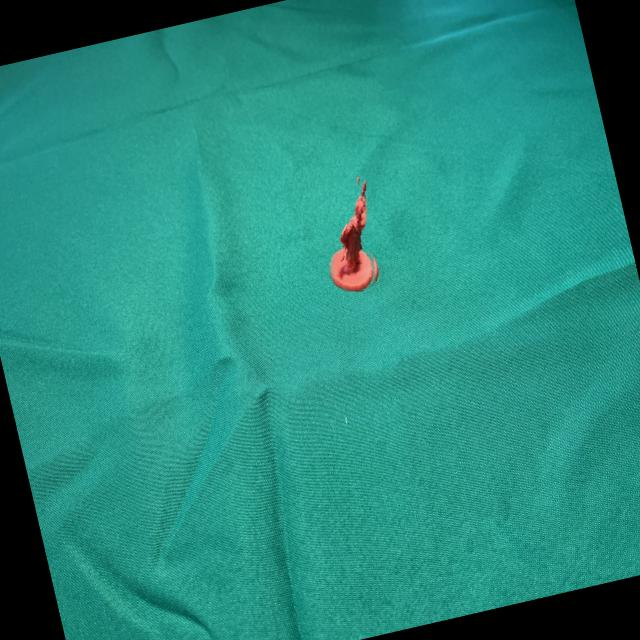amon_follower: (329, 179, 373, 291)
